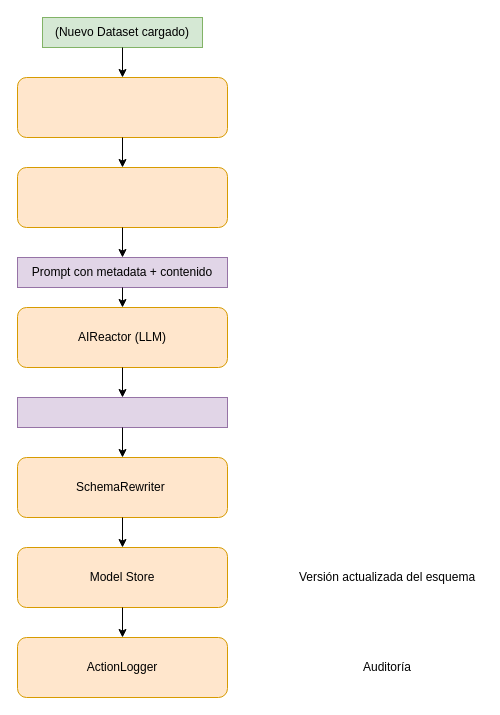
This 500x715 diagram has some shape labels left out. The shapes that lost their labels are listed below. From the top down, each one's centre as x and y in pixels, then its label:
(122,107): Data Listener
(122,197): SchemaAnalyzer
(122,412): Output: acciones sobre el modelo
